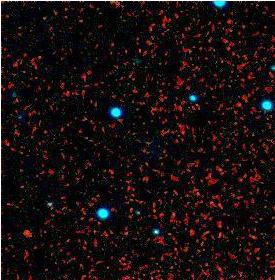star: (12, 219, 42, 249)
